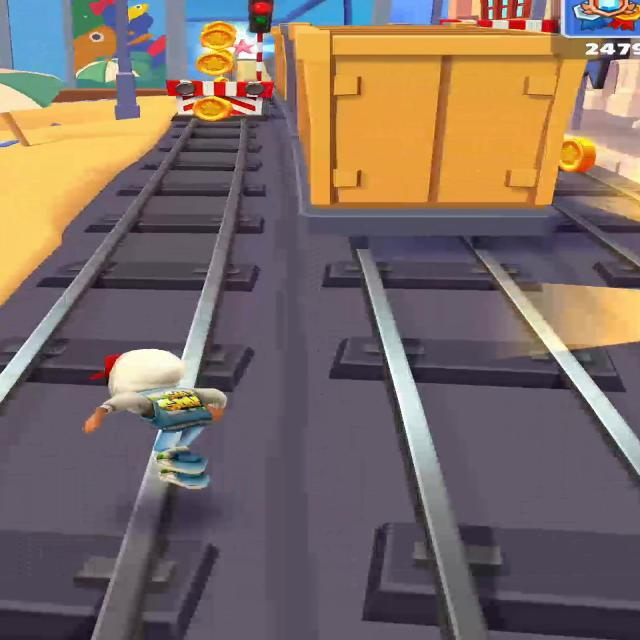climber: (238, 59, 257, 81)
roll blocker: (167, 80, 272, 115)
train: (266, 24, 578, 237)
